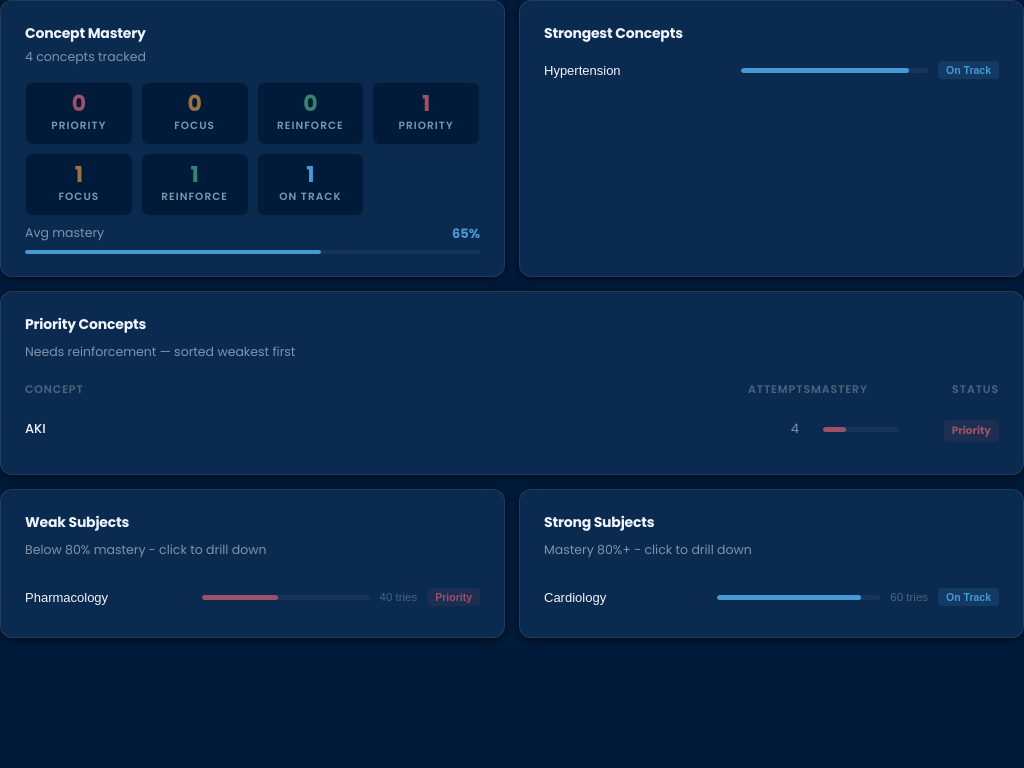
MasteryPanel — SubjectDrilldownModal › modal lists concepts for the selected subject
The width and height of the screenshot is (1024, 768).
Click the button with aria-label "View Pharmacology subject details" at (252, 597), box [25,579,480,615]
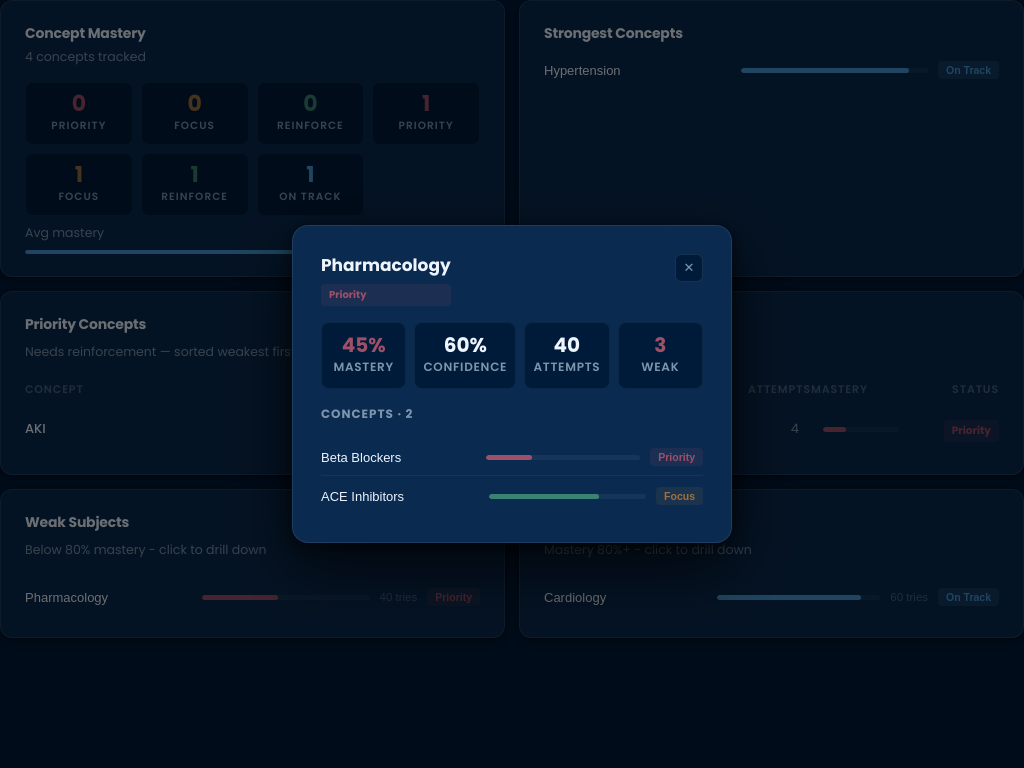
Now the text "Beta Blockers" is shown, box [321,450,401,464]
Now the text "ACE Inhibitors" is shown, box [321,488,404,504]
